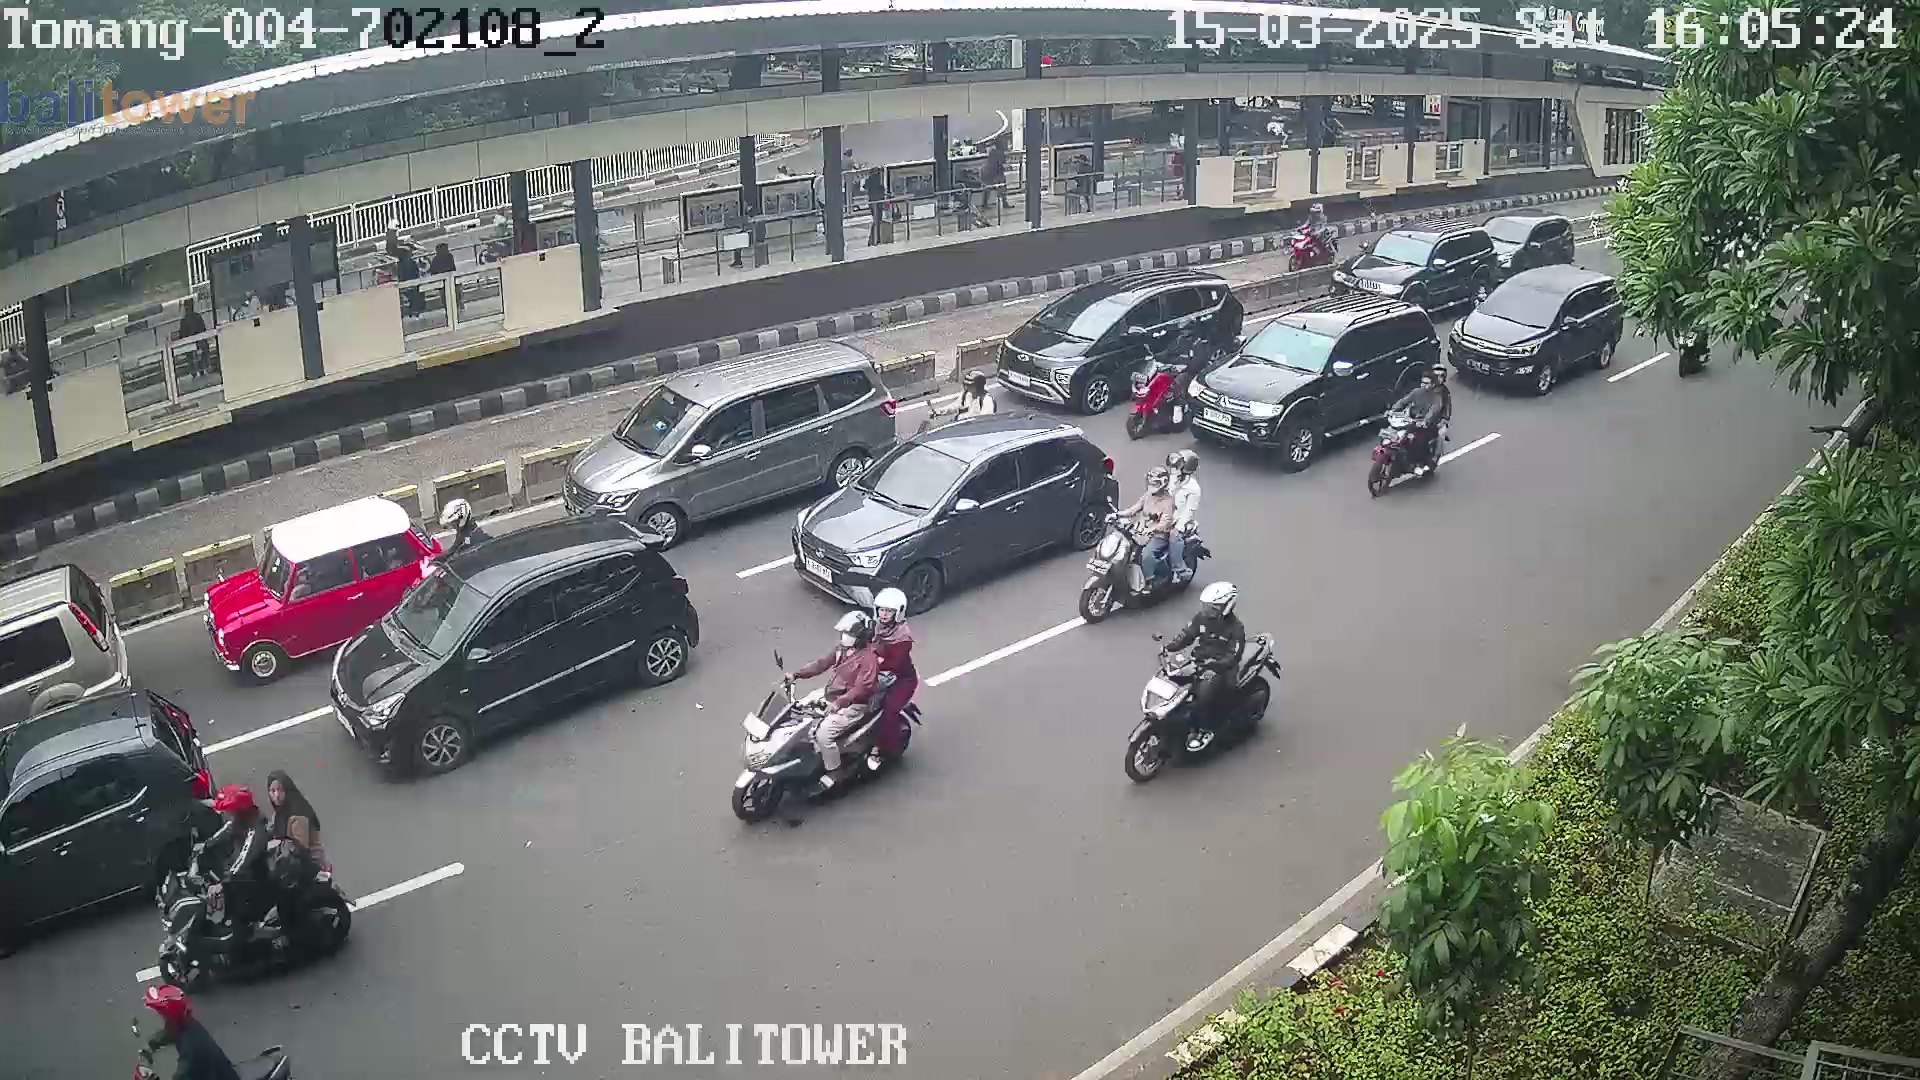half-face helmet: (1192, 573, 1247, 637), (139, 978, 194, 1033), (208, 784, 257, 833), (839, 608, 874, 667), (863, 578, 902, 629), (427, 494, 474, 531), (1143, 461, 1174, 508), (1174, 435, 1202, 478), (957, 373, 992, 406), (1178, 314, 1198, 343)
no helmet: (259, 765, 304, 810), (1415, 373, 1441, 396)
